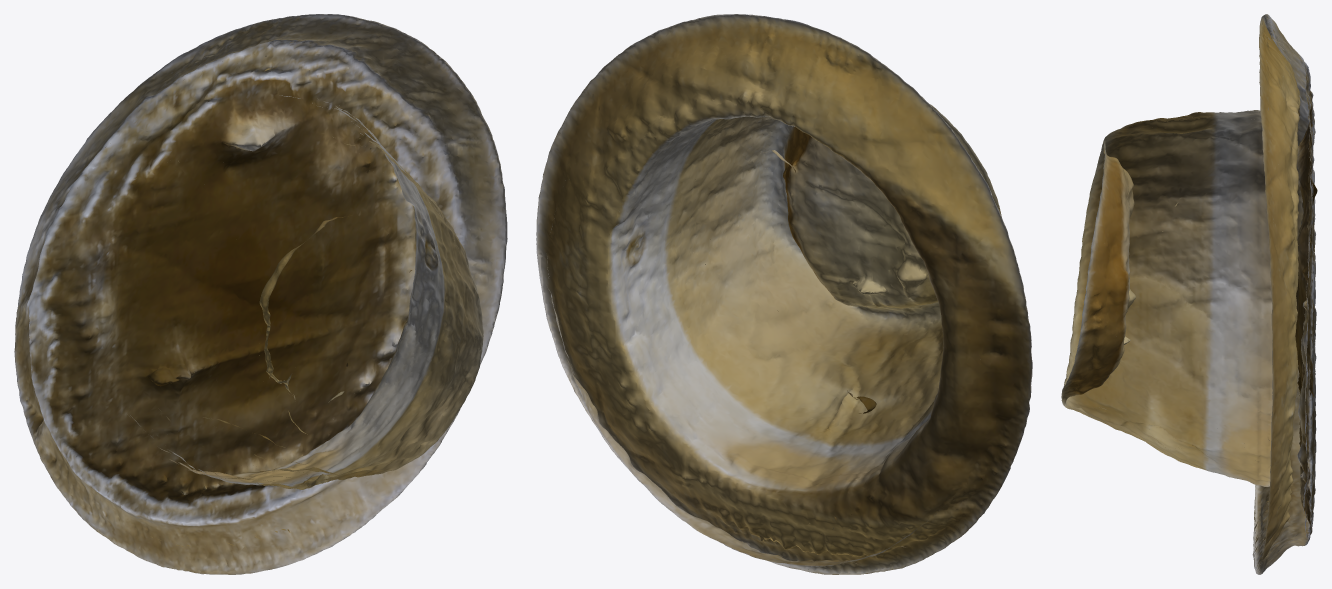
File: hat.glb
3 renders of one model, left to right at view 1: azimuth 30°, elevation 25°; view 2: azimuth 150°, elevation 25°; view 3: azimuth 270°, elevation 25°, orthographic. The views are drawn at different scales.
Size of the model in its own units: 0.9413 by 1 by 0.4532.
